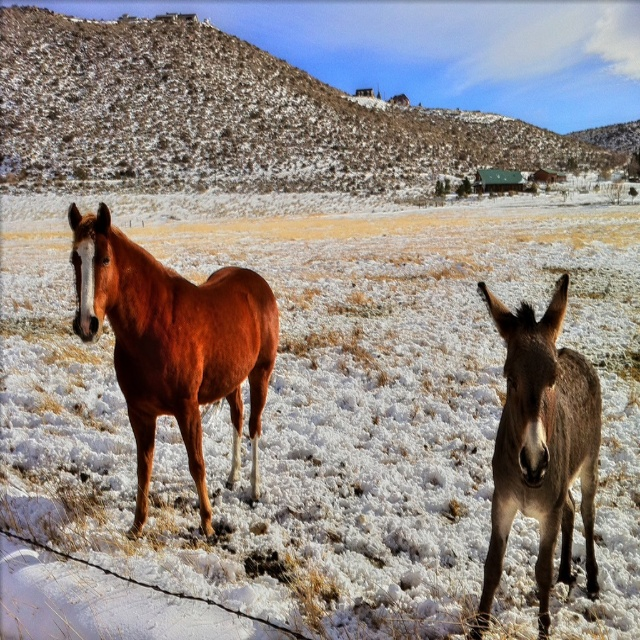Horse: (66, 195, 277, 539)
